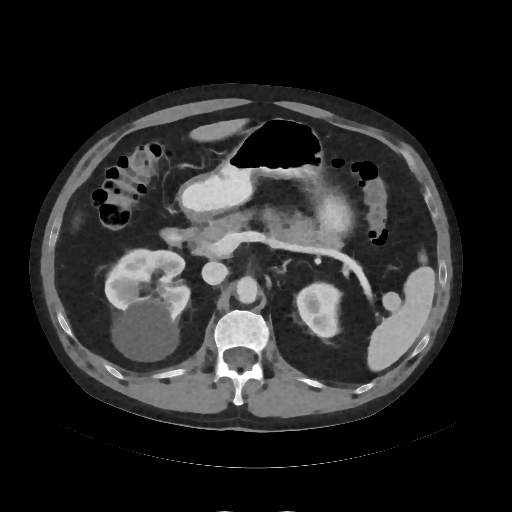Lesion: (105, 296, 184, 363)
